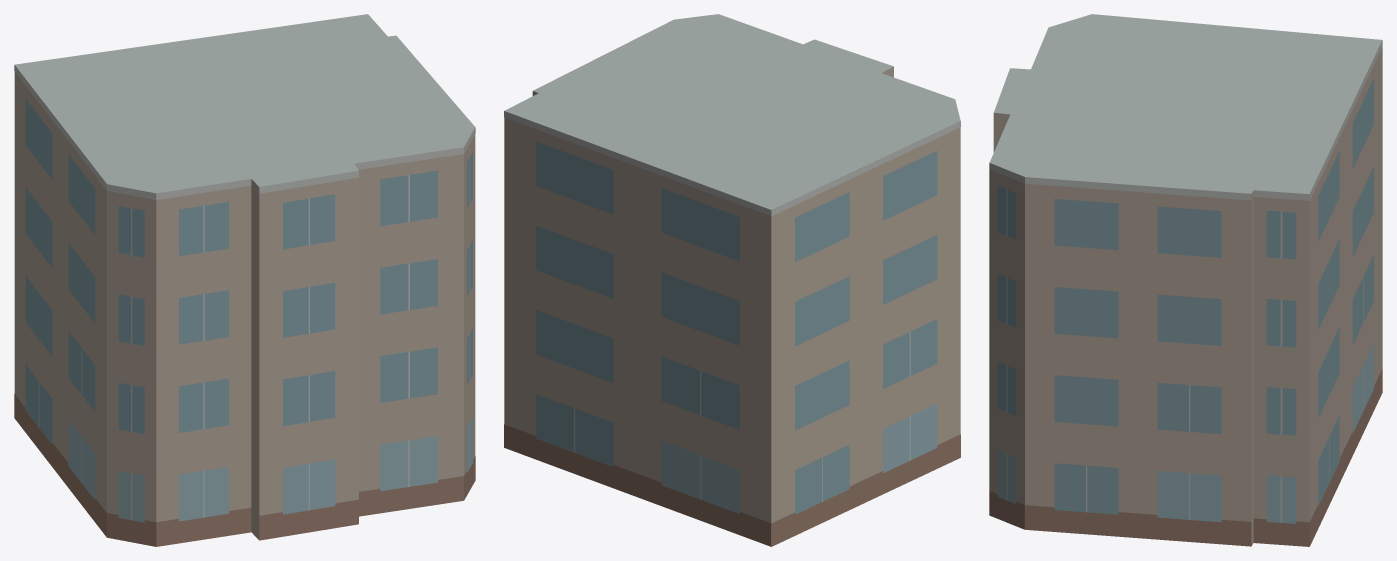
File: survey-upis-33033580.glb
3 renders of one model, left to right at view 1: azimuth 30°, elevation 25°; view 2: azimuth 150°, elevation 25°; view 3: azimuth 270°, elevation 25°, orthographic. The views are drawn at different scales.
Visible parts, largest first — view 1: survey-upis-33033580.tmp; view 2: survey-upis-33033580.tmp; view 3: survey-upis-33033580.tmp.
Part boxes in pixels (bbox=[...]): survey-upis-33033580.tmp: bbox=[14, 14, 475, 546]; survey-upis-33033580.tmp: bbox=[504, 14, 960, 546]; survey-upis-33033580.tmp: bbox=[989, 14, 1382, 546].
Bounding box in the file's own units: 14.14 × 12.9 × 13.04.
